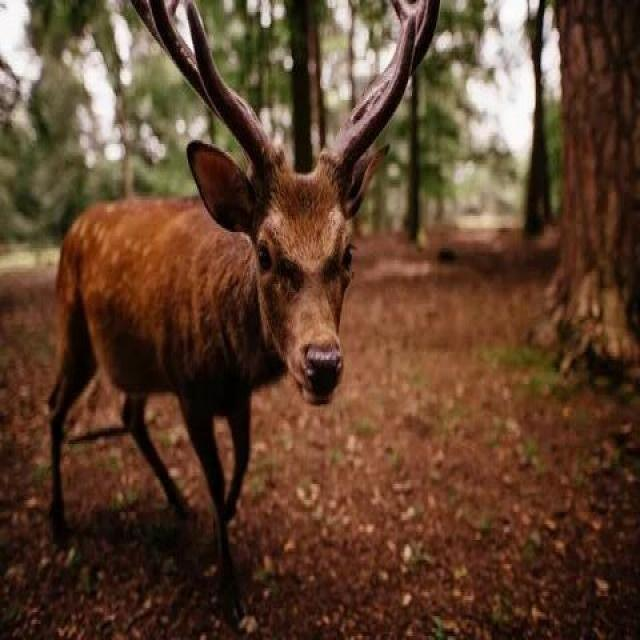deer: (80, 16, 420, 525)
